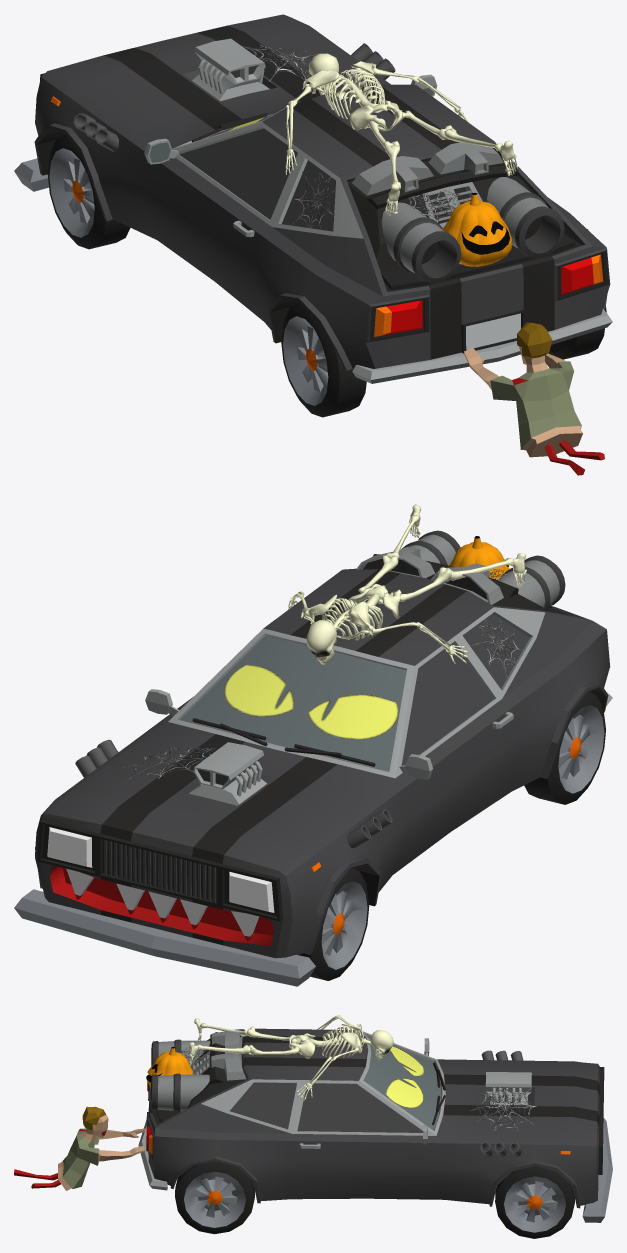
The model's file is Car10_Halloween_M.fbx.
3 views of the same model, one above another, from view 1: azimuth 30°, elevation 25°; view 2: azimuth 150°, elevation 25°; view 3: azimuth 270°, elevation 25° (orthographic). The views are drawn at different scales.
Parts seen in each view (by area): view 1: Car.10, Car.029, left wheel.015, left wheel.014, Car.028, right wheel.017; view 2: Car.10, left wheel.015, left wheel.014, Car.028; view 3: Car.10, right wheel.017, right wheel.016, Car.029, Car.028.
Part boxes in pixels (x1=…): Car.10: x1=14, y1=14, x2=612, y2=383; Car.029: x1=464, y1=322, x2=604, y2=475; left wheel.015: x1=281, y1=303, x2=366, y2=417; left wheel.014: x1=48, y1=134, x2=130, y2=249; Car.028: x1=242, y1=44, x2=460, y2=229; right wheel.017: x1=548, y1=306, x2=606, y2=359; Car.10: x1=14, y1=504, x2=612, y2=986; left wheel.015: x1=524, y1=691, x2=605, y2=804; left wheel.014: x1=298, y1=867, x2=369, y2=980; Car.028: x1=122, y1=569, x2=523, y2=780; Car.10: x1=138, y1=1015, x2=612, y2=1222; right wheel.017: x1=175, y1=1161, x2=254, y2=1234; right wheel.016: x1=495, y1=1166, x2=574, y2=1238; Car.029: x1=14, y1=1106, x2=145, y2=1190; Car.028: x1=178, y1=1045, x2=536, y2=1130.
Size of the model in its own units: 218 by 173 by 561.
